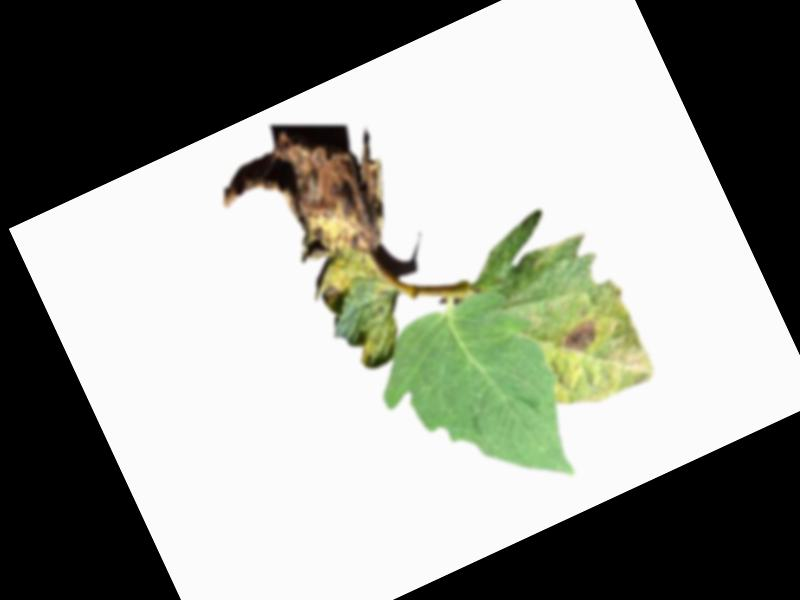Early_blight: (201, 98, 428, 330), (558, 317, 606, 360)
